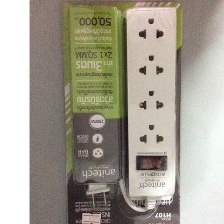book: (58, 0, 183, 224)
three_eye_plug: (121, 4, 177, 206)
